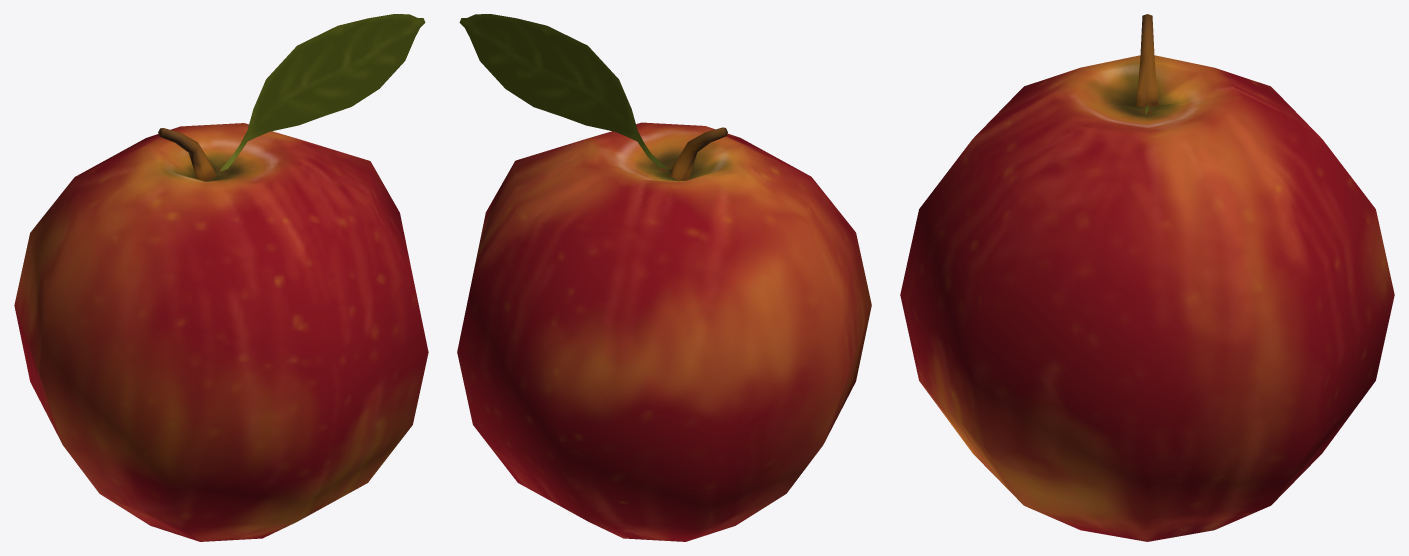
The model's file is apple.glb.
3 renders of one model, left to right at view 1: azimuth 30°, elevation 25°; view 2: azimuth 150°, elevation 25°; view 3: azimuth 270°, elevation 25°, orthographic. The views are drawn at different scales.
Visible parts, largest first — view 1: apple.001; view 2: apple.001; view 3: apple.001.
Boxes of the visible parts, x1,y1,x2,y2 form: apple.001: [14, 14, 428, 541]; apple.001: [457, 14, 871, 541]; apple.001: [900, 14, 1394, 541].
Size of the model in its own units: 0.3423 by 0.3865 by 0.3292.
1 material, 1 textured.
